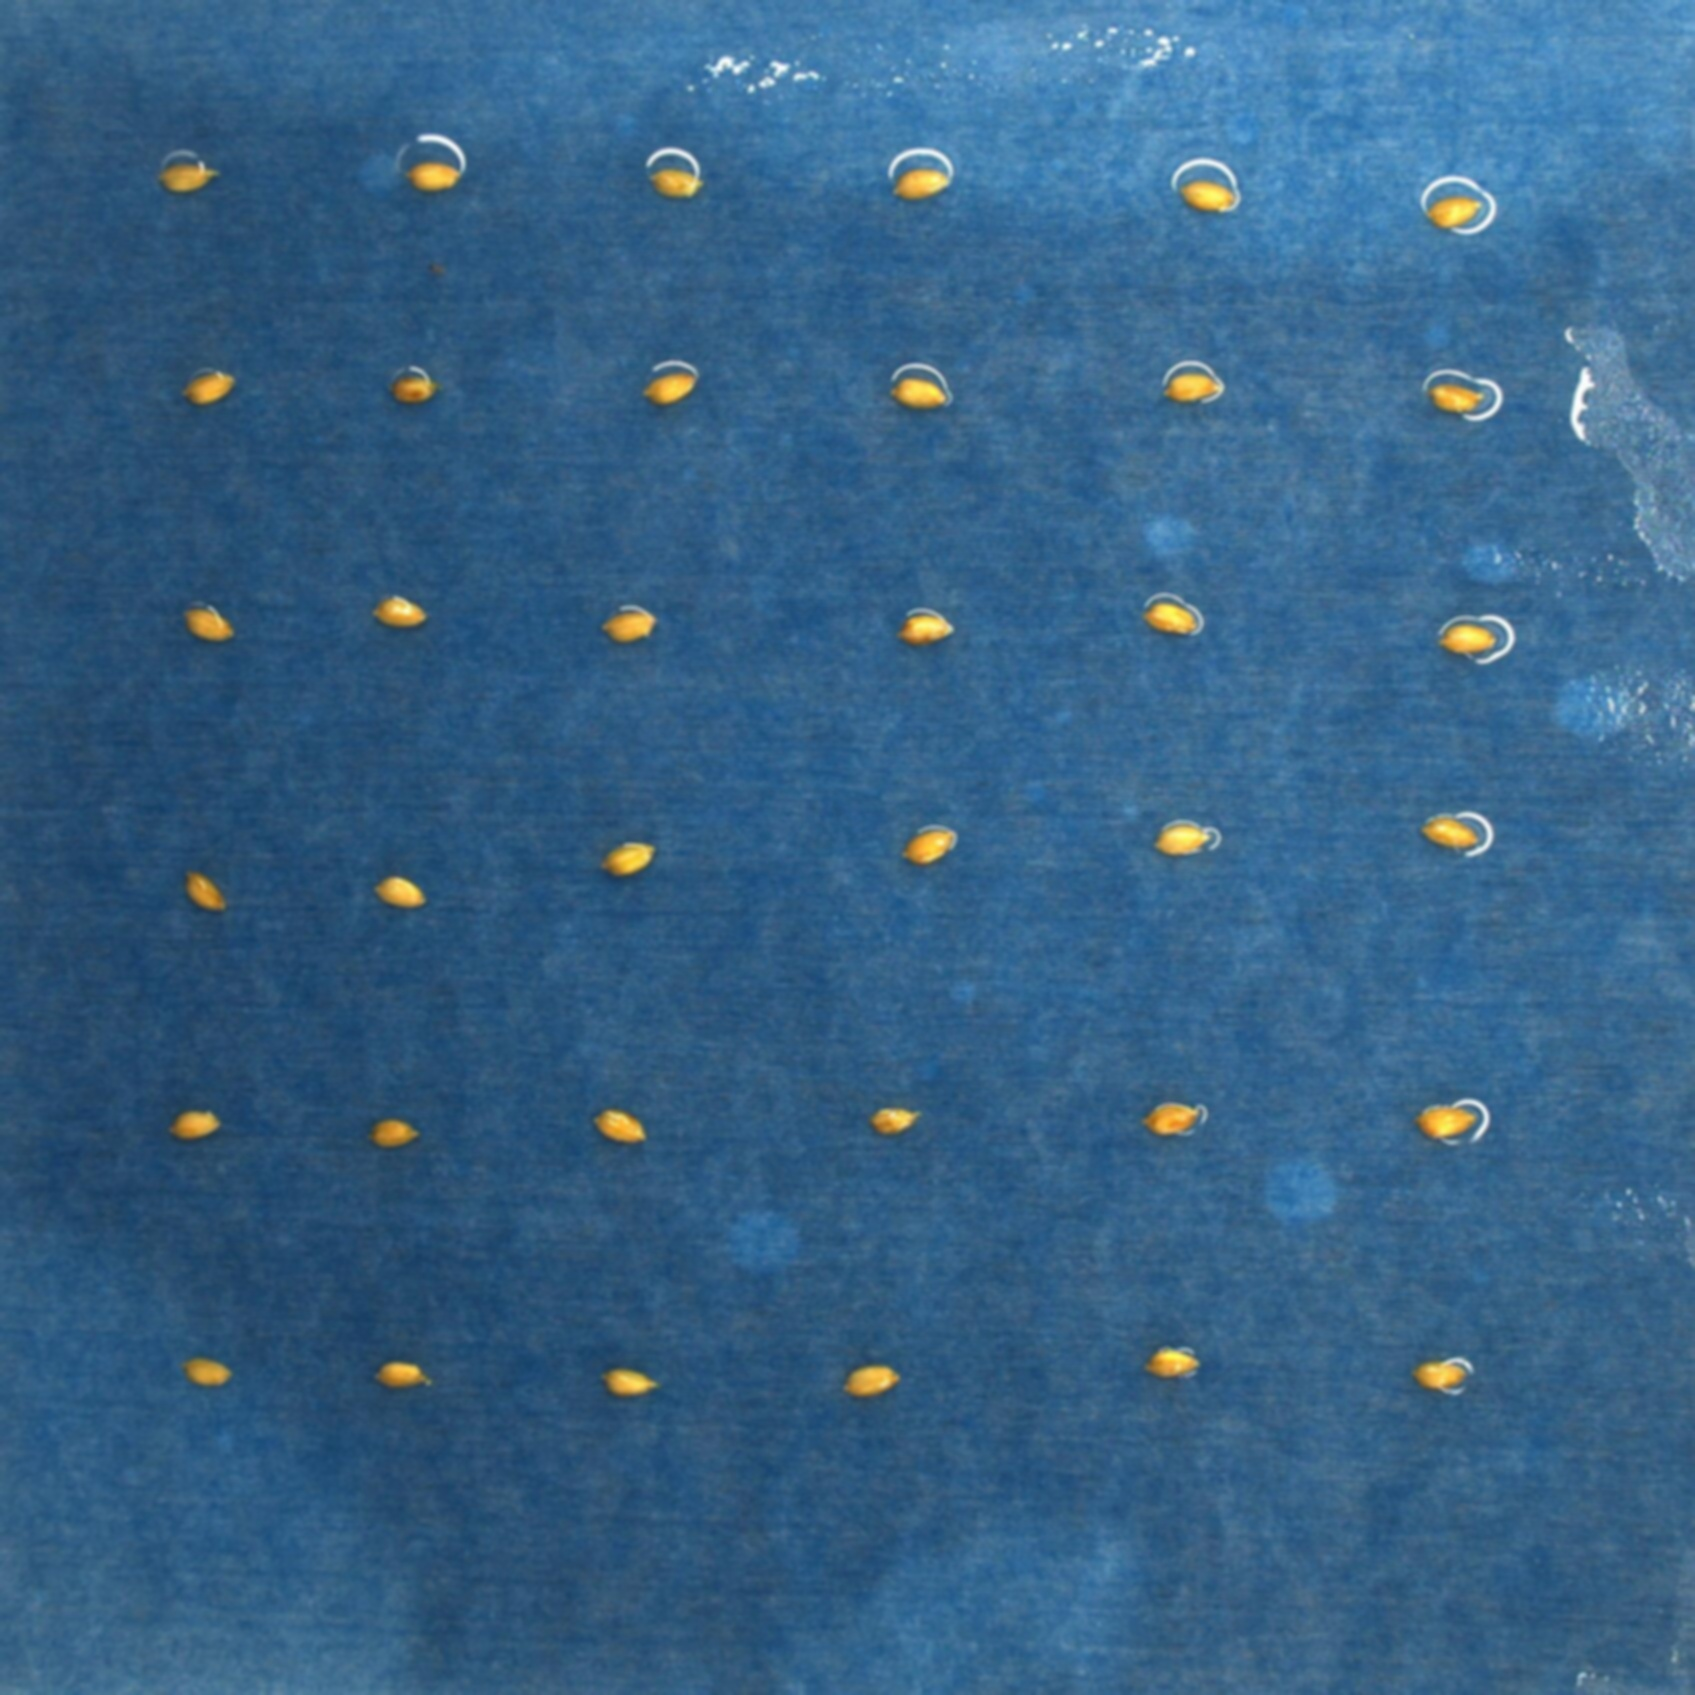not sprout: (154, 151, 227, 196), (837, 1357, 903, 1399), (172, 861, 224, 914), (1419, 1101, 1476, 1146), (405, 158, 477, 194), (369, 871, 428, 913), (1423, 812, 1487, 851), (1142, 1101, 1200, 1142), (1422, 382, 1495, 414), (182, 366, 234, 411), (1153, 820, 1218, 855), (591, 1105, 649, 1146), (182, 605, 244, 643), (1175, 180, 1242, 214), (866, 1105, 925, 1142), (889, 161, 955, 194), (1139, 601, 1198, 636), (1437, 624, 1498, 658), (1426, 196, 1485, 230), (899, 612, 958, 646), (893, 373, 950, 407), (1411, 1357, 1465, 1392), (374, 594, 432, 627), (163, 1108, 222, 1139), (1163, 373, 1223, 402), (650, 165, 706, 196), (641, 369, 697, 400), (897, 832, 950, 865), (599, 844, 653, 875), (601, 612, 653, 643), (601, 1369, 660, 1395), (374, 1361, 436, 1386), (386, 376, 438, 405), (1149, 1340, 1192, 1374), (373, 1119, 419, 1150), (185, 1358, 234, 1383)
